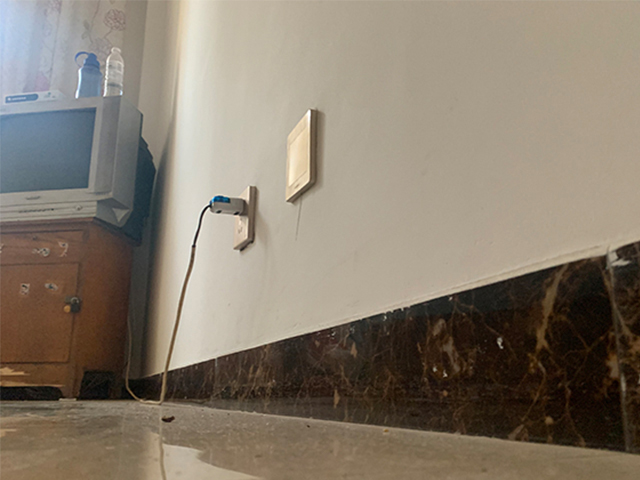cabinet: (1, 217, 133, 401)
wire: (124, 195, 244, 405)
